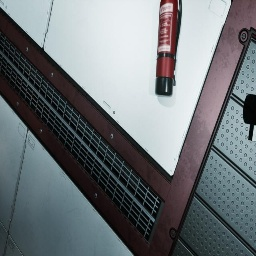FireExtinguisher ]: (155, 0, 182, 98)
